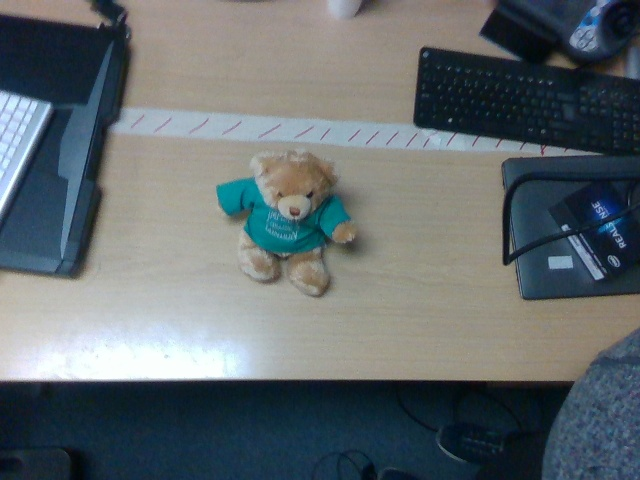teddy: (216, 149, 356, 297)
